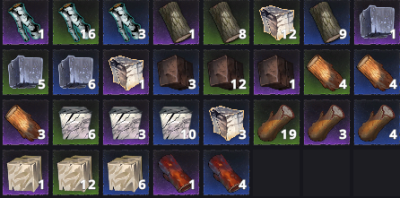ash log: (204, 1, 250, 45), (303, 1, 350, 44), (152, 1, 198, 44)
birch log: (102, 1, 150, 45), (1, 1, 48, 45), (53, 1, 100, 44)
granite stone: (52, 47, 99, 95), (1, 48, 48, 93), (352, 1, 398, 44)
limestone stone: (103, 47, 149, 95), (203, 99, 249, 145), (253, 1, 300, 46)
marble stone: (153, 98, 200, 146), (102, 98, 149, 145), (51, 98, 99, 144)
oak log: (302, 48, 351, 95), (353, 46, 399, 95), (1, 98, 48, 144)
slate stone: (252, 47, 300, 95), (203, 47, 249, 95), (153, 48, 199, 94)
spruce log: (253, 99, 299, 145), (352, 99, 398, 145), (303, 99, 350, 144)
travertine stone: (1, 149, 48, 195), (53, 150, 98, 195), (102, 150, 147, 195)
yew log: (152, 149, 198, 196), (202, 150, 249, 195)
